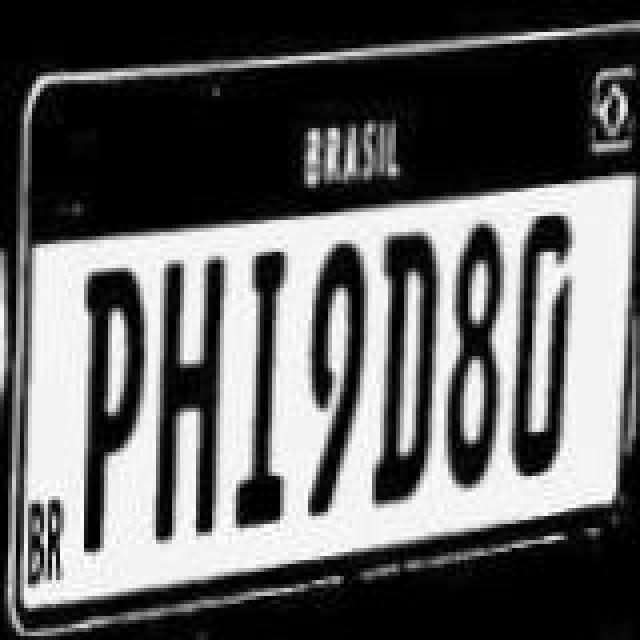8: (444, 214, 512, 506)
9: (292, 240, 372, 528)
D: (370, 232, 450, 516), (508, 200, 576, 484)
H: (150, 246, 234, 554)
I: (224, 238, 296, 538)
P: (78, 262, 154, 566)
